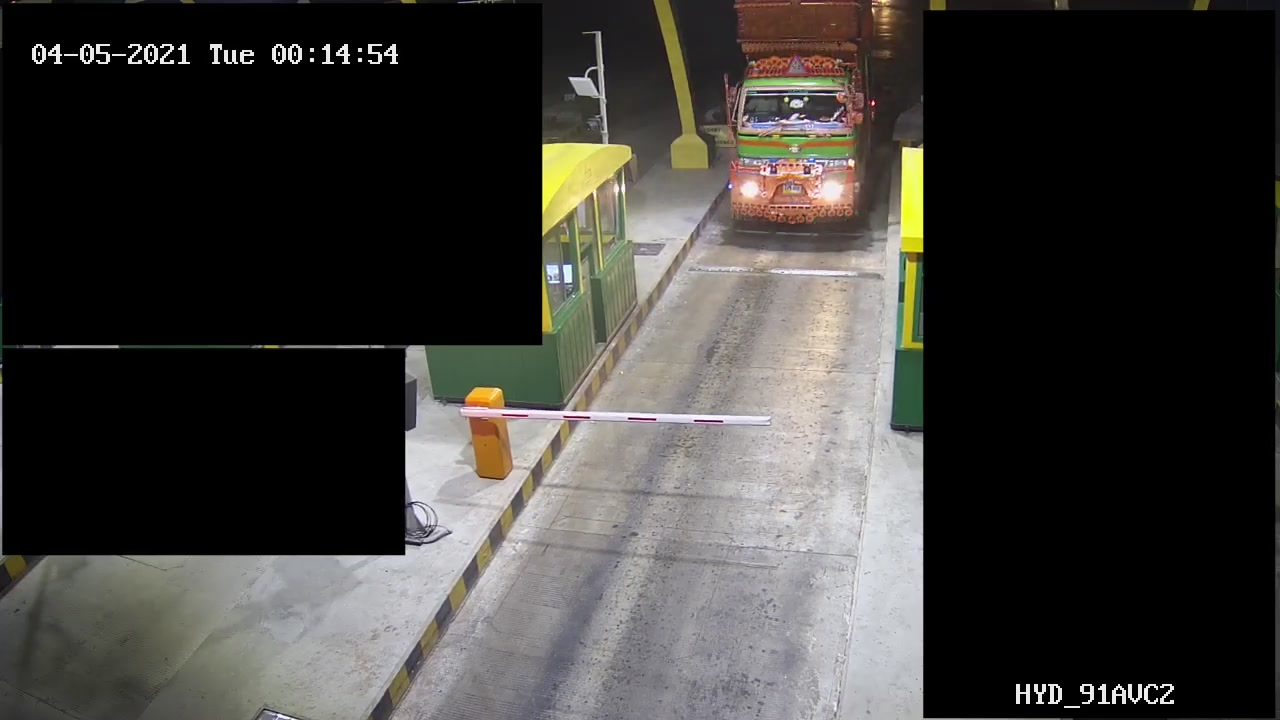F5: (718, 1, 876, 239)
